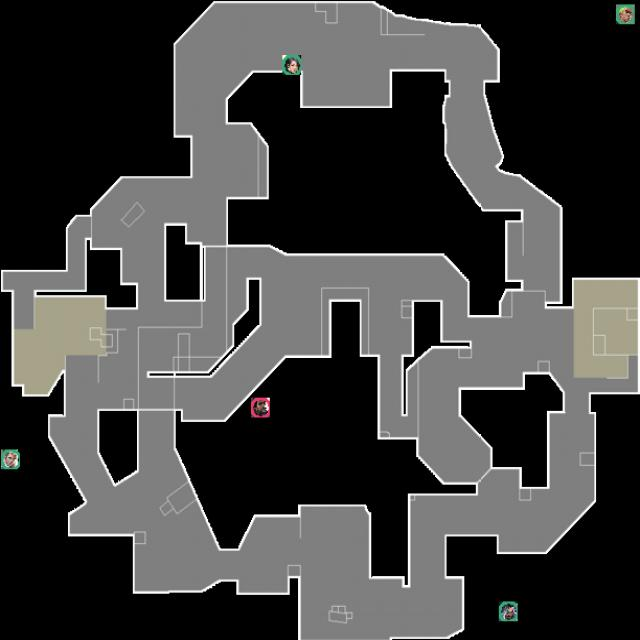atk_harbor: (251, 398, 270, 418)
def_fade: (498, 602, 518, 622)
def_gekko: (616, 4, 635, 24)
def_sage: (282, 55, 302, 75)
def_sova: (1, 450, 20, 470)
